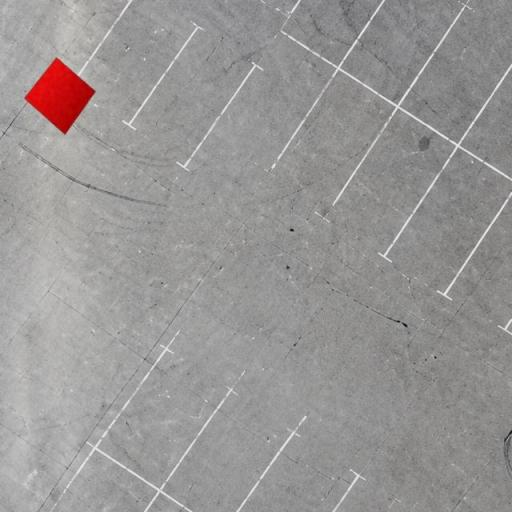RED_SQUARE: (23, 57, 96, 135)
